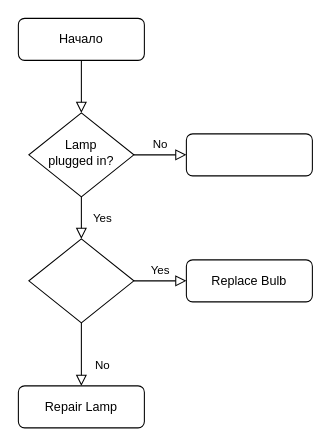
Some shapes in this 331 by 446 pixel diagram are drawn without their labels. The shapes that lost their labels are listed below. From the top down, each one's centre as x and y in pixels, then its label:
(x=248, y=154): Plug in lamp
(x=81, y=280): Bulb burned out?
